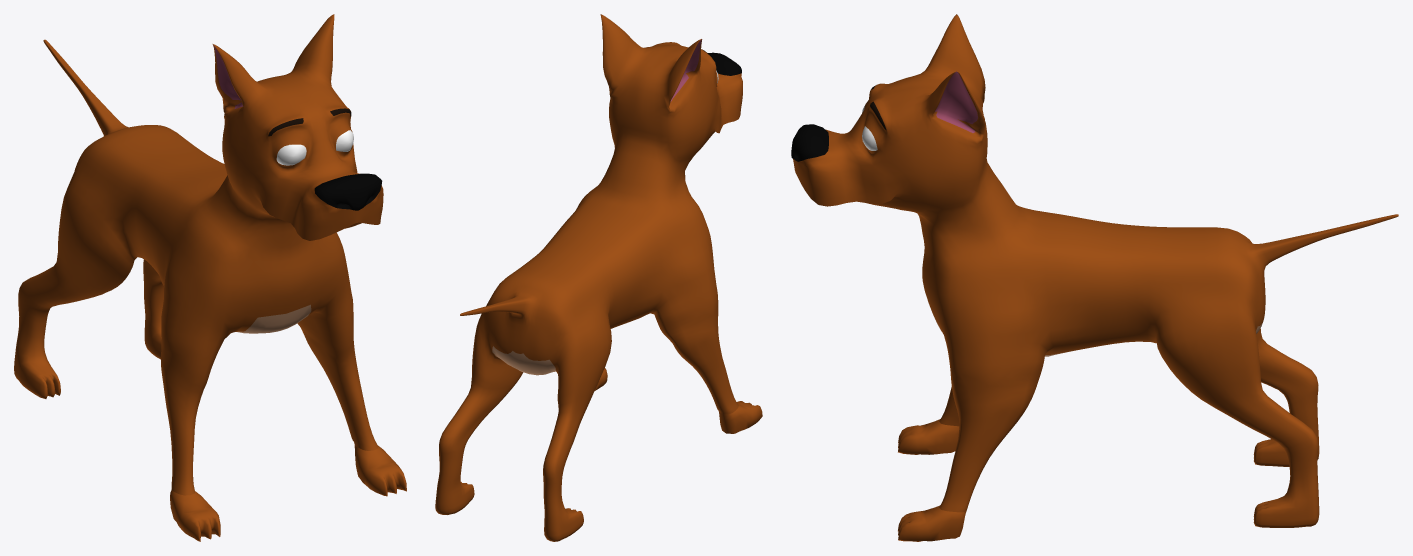
Rendered from CartoonDogOmarRinazCosta.fbx.
3 views of the same model, side by side, from view 1: azimuth 30°, elevation 25°; view 2: azimuth 150°, elevation 25°; view 3: azimuth 270°, elevation 25° (orthographic). The views are drawn at different scales.
Parts seen in each view (by area): view 1: doggo002; view 2: doggo002; view 3: doggo002.
Part boxes in pixels (<box>): doggo002: <box>14,14,406,541</box>; doggo002: <box>435,14,762,541</box>; doggo002: <box>791,14,1398,541</box>.
Size of the model in its own units: 145 by 299 by 365.
